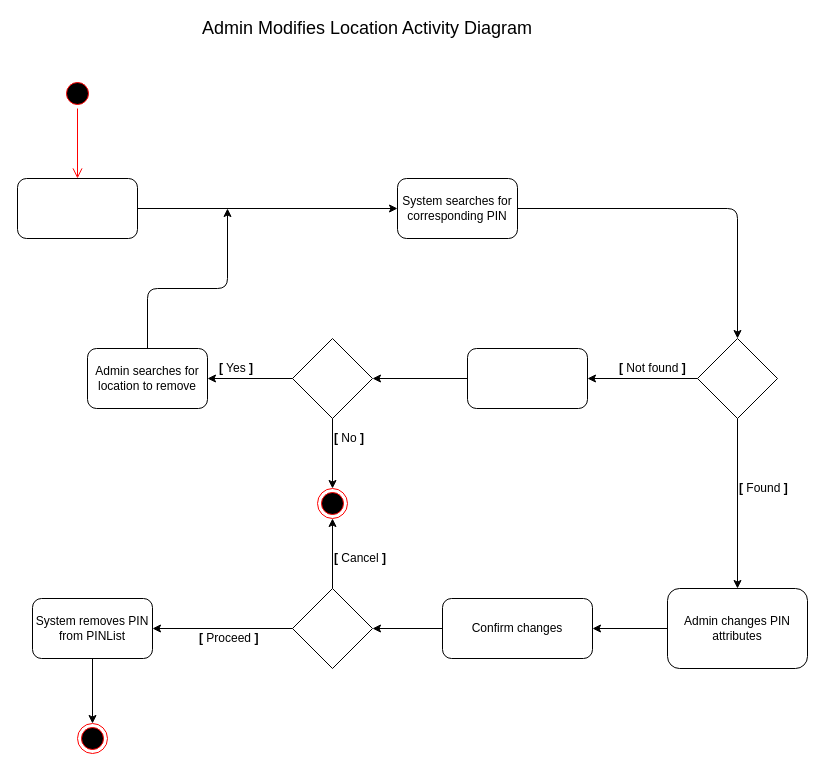
This 825x771 diagram has some shape labels left out. The box of each missing label's shape, as (x1, y1, x2, y2) in pixels:
Admin searches for location to modify: (16, 178, 138, 238)
Search Again: (466, 348, 588, 408)
